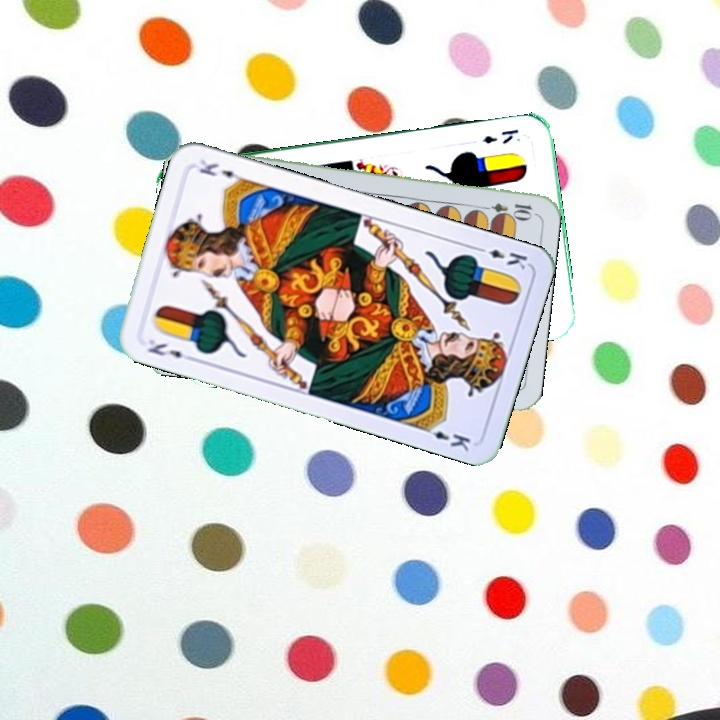E10: (476, 198, 535, 219)
EK: (472, 242, 530, 272), (144, 335, 197, 364), (479, 125, 521, 147)
